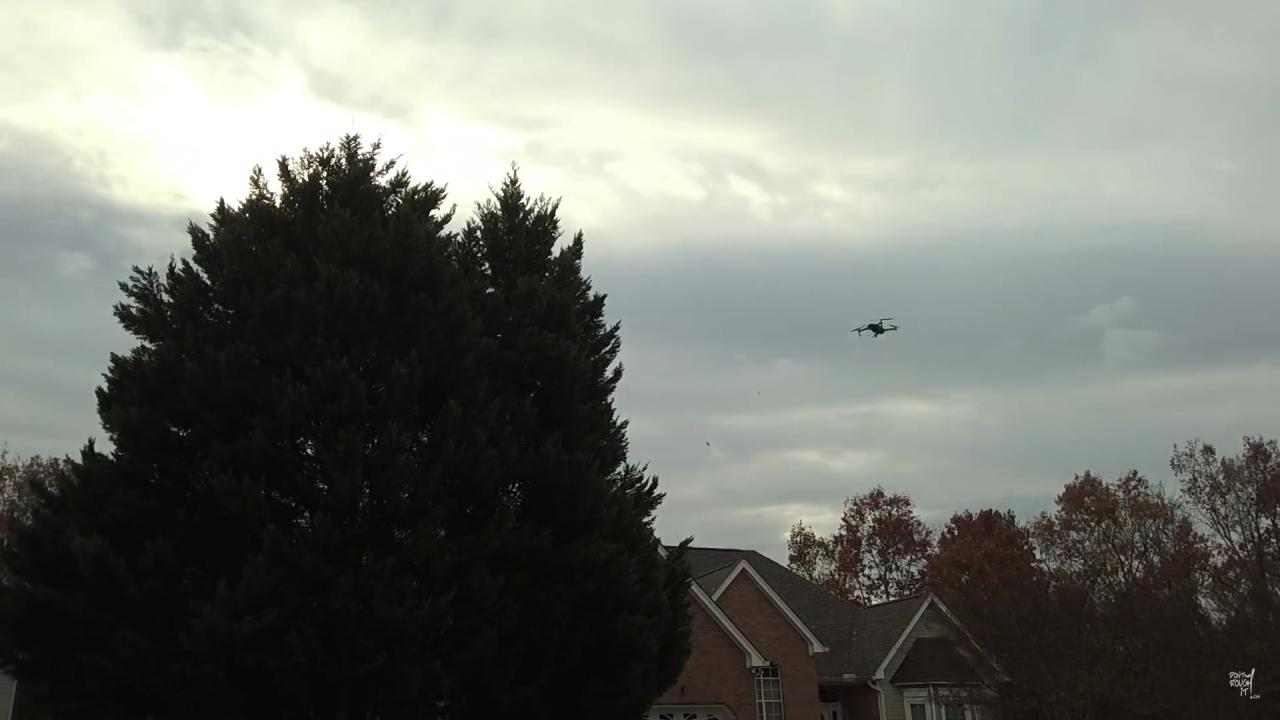Drone: (838, 304, 913, 354)
